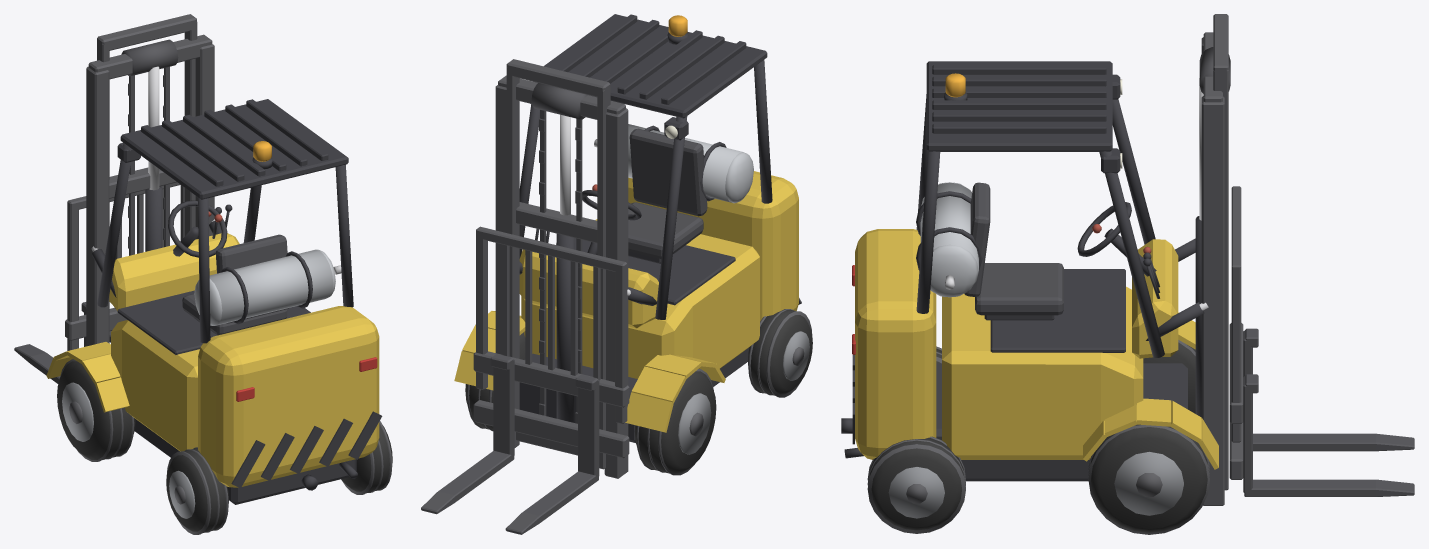
Rendered from v_forklift.glb.
3 views of the same model, side by side, from view 1: azimuth 30°, elevation 25°; view 2: azimuth 150°, elevation 25°; view 3: azimuth 270°, elevation 25° (orthographic). The views are drawn at different scales.
Visible parts, largest first — view 1: Forklift; view 2: Forklift; view 3: Forklift.
Boxes of the visible parts, left/top/right/bottom form: Forklift: left=14, top=14, right=392, bottom=534; Forklift: left=421, top=14, right=812, bottom=534; Forklift: left=841, top=14, right=1414, bottom=534.
Size of what is drawn, in the model's own units: 1.41 by 2.52 by 2.96.
